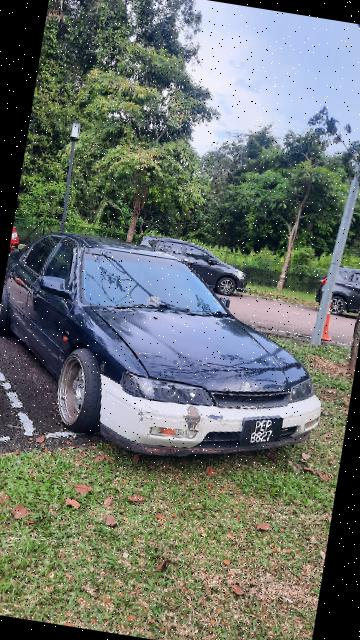License_Plate: (236, 409, 288, 463)
car: (1, 213, 349, 478)
